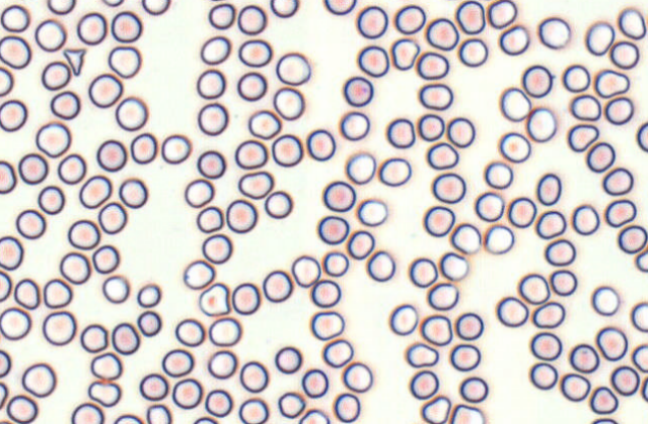RBC: (35, 121, 71, 157), (21, 362, 56, 397), (88, 73, 123, 108), (275, 51, 311, 85), (42, 310, 76, 345), (115, 96, 148, 131), (78, 174, 111, 208), (107, 45, 141, 78), (425, 17, 459, 50), (537, 16, 571, 49), (499, 86, 531, 121), (595, 326, 627, 361), (198, 282, 230, 316), (271, 133, 303, 167), (322, 180, 356, 212), (225, 199, 257, 233), (356, 5, 388, 39), (585, 20, 615, 56), (594, 68, 630, 98), (34, 18, 66, 51), (59, 251, 91, 284), (521, 64, 553, 97), (498, 131, 531, 163), (0, 306, 31, 340), (0, 35, 31, 69), (431, 172, 465, 203), (273, 86, 304, 120), (526, 107, 556, 142), (237, 170, 273, 199), (110, 10, 142, 42), (357, 45, 389, 77), (76, 12, 107, 45), (495, 296, 528, 327), (262, 269, 293, 302), (345, 151, 376, 184), (197, 102, 228, 135), (310, 310, 344, 340), (247, 109, 281, 139), (455, 0, 485, 34), (420, 314, 452, 345), (518, 273, 550, 304), (423, 205, 454, 237), (450, 222, 481, 254), (96, 139, 127, 171), (291, 254, 321, 287), (208, 316, 241, 346), (97, 201, 127, 234), (67, 219, 100, 249), (234, 139, 267, 169), (378, 156, 411, 186), (306, 128, 336, 161), (415, 51, 449, 80), (418, 82, 453, 110), (341, 361, 372, 392), (15, 208, 46, 239), (171, 378, 202, 409), (201, 233, 232, 264), (498, 24, 529, 55), (183, 259, 215, 289), (18, 152, 48, 184), (161, 348, 194, 377), (111, 322, 140, 355), (390, 37, 419, 70), (529, 331, 562, 360), (87, 379, 121, 407), (238, 39, 272, 67), (342, 76, 373, 106), (161, 133, 191, 164), (585, 141, 615, 172), (394, 4, 425, 34), (200, 35, 231, 65), (6, 394, 38, 423), (239, 360, 268, 392), (389, 303, 418, 335), (317, 215, 349, 244), (231, 282, 260, 314), (426, 141, 458, 170), (507, 196, 536, 228), (604, 198, 636, 227), (567, 123, 599, 152), (571, 203, 600, 235), (41, 60, 71, 90), (409, 369, 439, 399), (207, 349, 237, 379), (408, 257, 438, 287), (617, 224, 647, 254), (569, 343, 599, 373), (474, 191, 504, 221), (458, 37, 488, 67), (484, 224, 514, 254), (237, 71, 267, 101), (57, 153, 86, 184), (420, 394, 451, 423), (322, 338, 353, 367), (427, 281, 458, 310), (366, 250, 395, 281), (610, 365, 639, 396), (535, 210, 566, 239), (196, 68, 225, 99), (356, 197, 387, 226), (118, 177, 147, 208), (446, 116, 475, 147), (591, 285, 620, 316), (602, 166, 633, 195), (339, 111, 370, 140), (237, 4, 266, 35), (386, 117, 415, 148), (90, 352, 122, 380), (618, 7, 646, 39), (532, 301, 565, 328), (184, 178, 214, 207), (43, 278, 72, 308), (50, 90, 80, 119), (439, 251, 468, 281), (346, 229, 375, 259), (560, 372, 590, 401), (609, 40, 639, 69), (310, 279, 341, 307), (174, 318, 205, 346), (486, 0, 517, 28), (449, 343, 480, 371), (544, 238, 575, 266), (570, 93, 601, 121), (0, 99, 27, 131), (130, 132, 157, 164), (264, 190, 293, 219), (589, 385, 618, 414), (196, 149, 225, 178), (604, 96, 633, 125), (0, 4, 30, 32), (405, 342, 438, 367), (536, 172, 561, 205), (529, 361, 557, 390), (80, 323, 108, 352), (204, 388, 232, 417), (91, 244, 119, 273), (139, 373, 168, 401), (484, 161, 513, 189), (301, 368, 328, 398), (333, 392, 360, 422), (14, 278, 40, 309), (0, 235, 23, 270), (196, 205, 224, 233), (455, 312, 483, 340), (562, 64, 590, 92), (37, 185, 64, 214), (459, 376, 488, 403), (102, 274, 129, 303), (238, 397, 268, 423), (277, 391, 305, 418), (274, 346, 302, 373), (549, 269, 577, 296), (417, 113, 444, 141), (322, 250, 349, 277), (208, 2, 235, 29), (71, 402, 104, 423), (450, 403, 484, 423), (136, 310, 161, 336), (136, 283, 161, 307), (0, 160, 16, 194), (630, 301, 647, 332), (323, 0, 356, 15), (145, 404, 171, 423), (298, 408, 330, 423), (270, 0, 298, 17), (631, 343, 647, 372), (141, 0, 170, 15), (0, 269, 12, 302), (47, 0, 75, 14), (0, 66, 13, 96), (636, 121, 647, 152), (0, 349, 11, 377), (113, 413, 143, 423), (635, 249, 647, 272), (0, 381, 8, 409), (641, 375, 648, 402), (193, 416, 218, 423), (591, 417, 618, 423), (101, 0, 124, 7), (0, 419, 14, 423), (205, 0, 227, 2)
Schistocyte: (63, 46, 86, 76)
